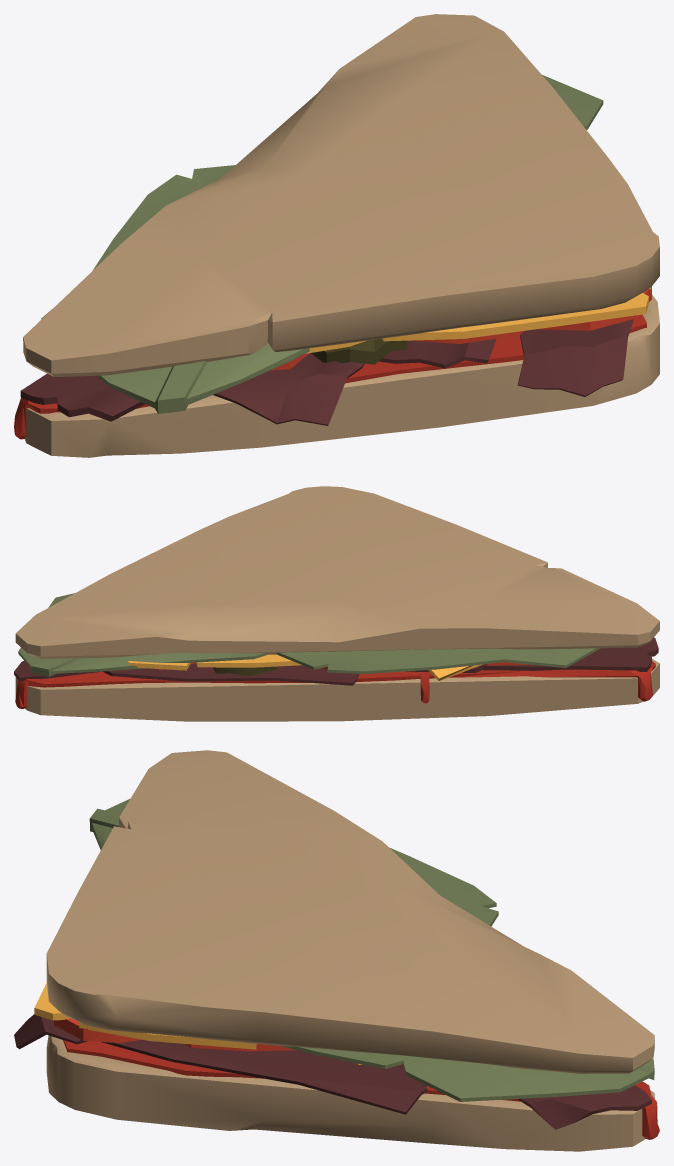
The model's file is SM_Sandwich.fbx.
3 views of the same model, one above another, from view 1: azimuth 30°, elevation 25°; view 2: azimuth 150°, elevation 25°; view 3: azimuth 270°, elevation 25° (orthographic). The views are drawn at different scales.
Parts seen in each view (by area): view 1: SM_Sandwich; view 2: SM_Sandwich; view 3: SM_Sandwich.
Part boxes in pixels (left/top/right/bottom): SM_Sandwich: left=14, top=14, right=659, bottom=457; SM_Sandwich: left=14, top=486, right=659, bottom=721; SM_Sandwich: left=14, top=750, right=659, bottom=1151.
Size of the model in its own units: 16.57 by 3.04 by 13.83.
